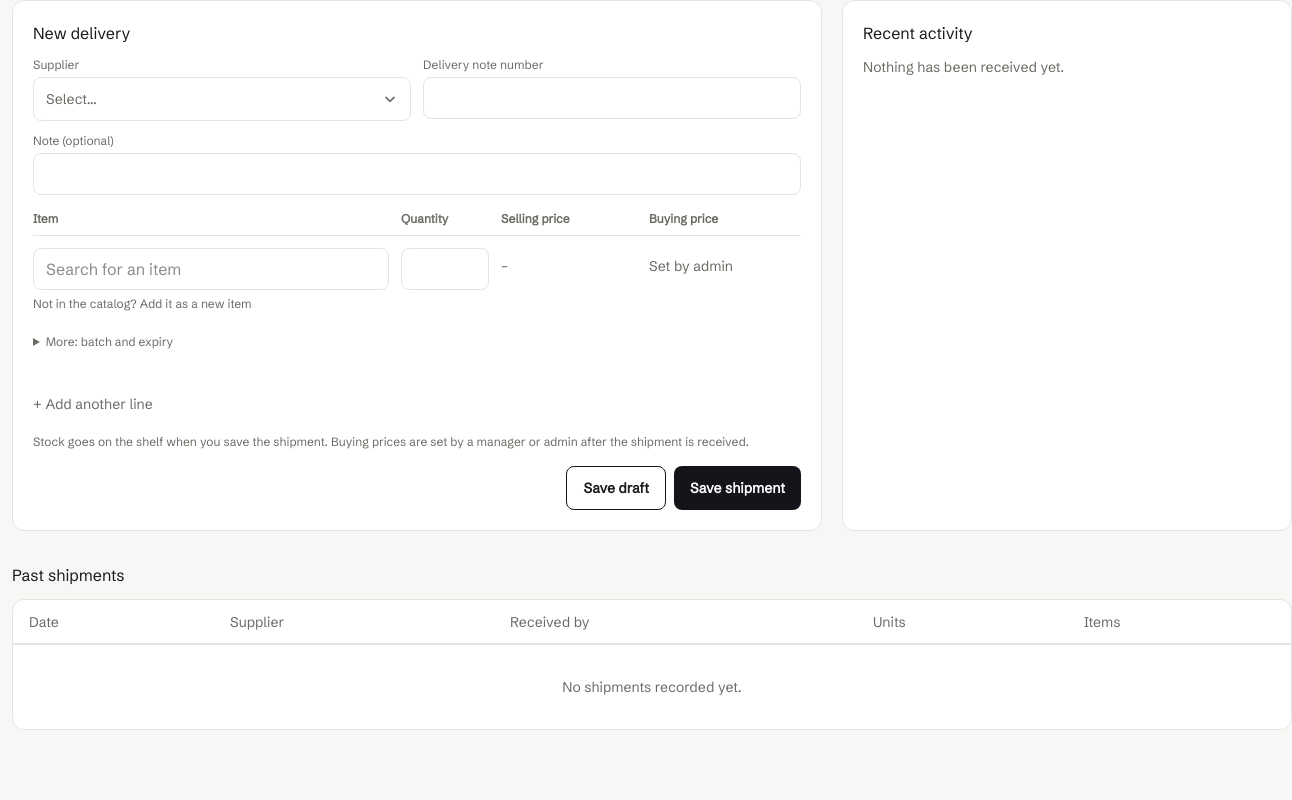
it: Receive form › a direct receive with no draft is unchanged
Click the button "Save shipment" at (738, 488), box [674,466,801,510]
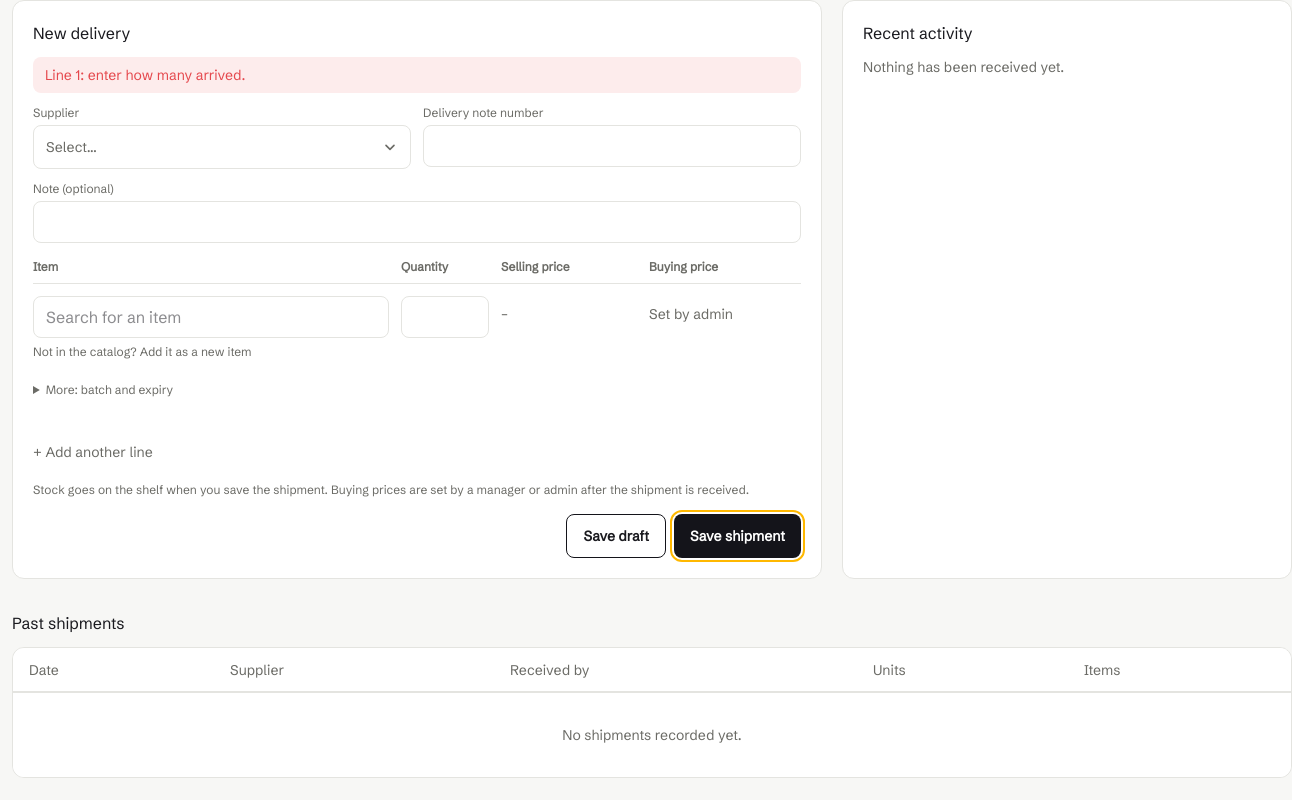
Expected: the text "Line 1: enter how many arrived." is shown, [33,57,801,93]
